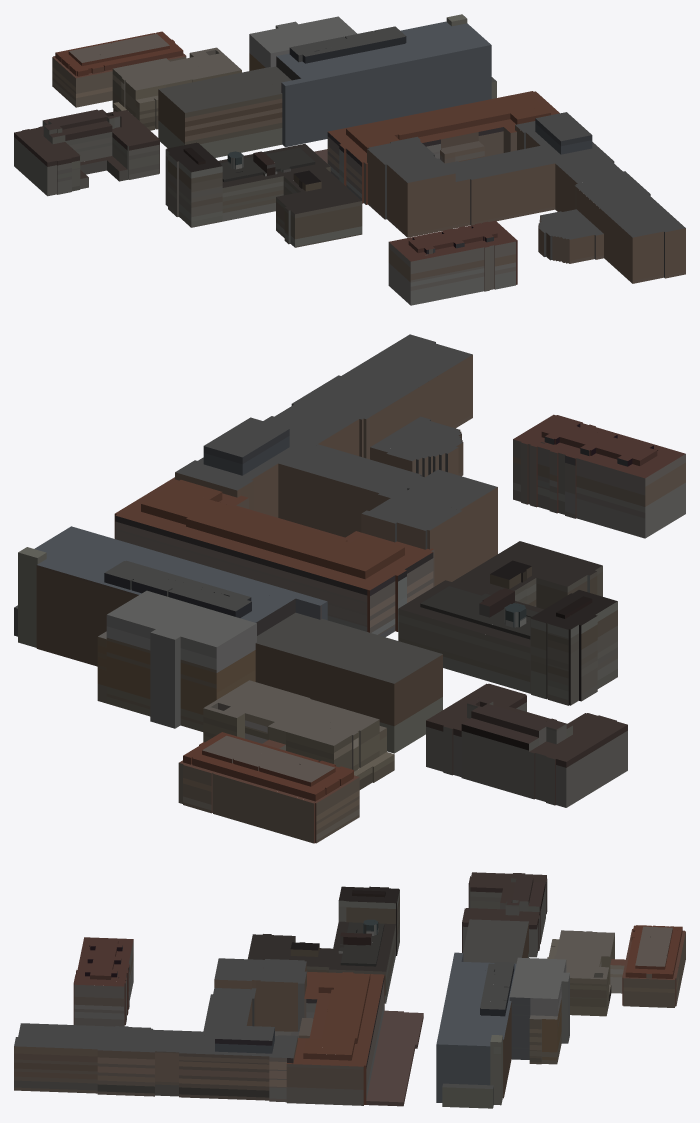
File: t_0_-1.far.glb
3 renders of one model, top to bottom at view 1: azimuth 30°, elevation 25°; view 2: azimuth 150°, elevation 25°; view 3: azimuth 270°, elevation 25°, orthographic. The views are drawn at different scales.
Visible parts, largest first — view 1: opaque; view 2: opaque; view 3: opaque.
Part boxes in pixels (x1,y1,x2,y2): opaque: [14, 14, 685, 305]; opaque: [14, 334, 685, 843]; opaque: [14, 872, 685, 1108].
Size of the model in its own units: 218 by 32.5 by 304.
1 material, 1 textured.
